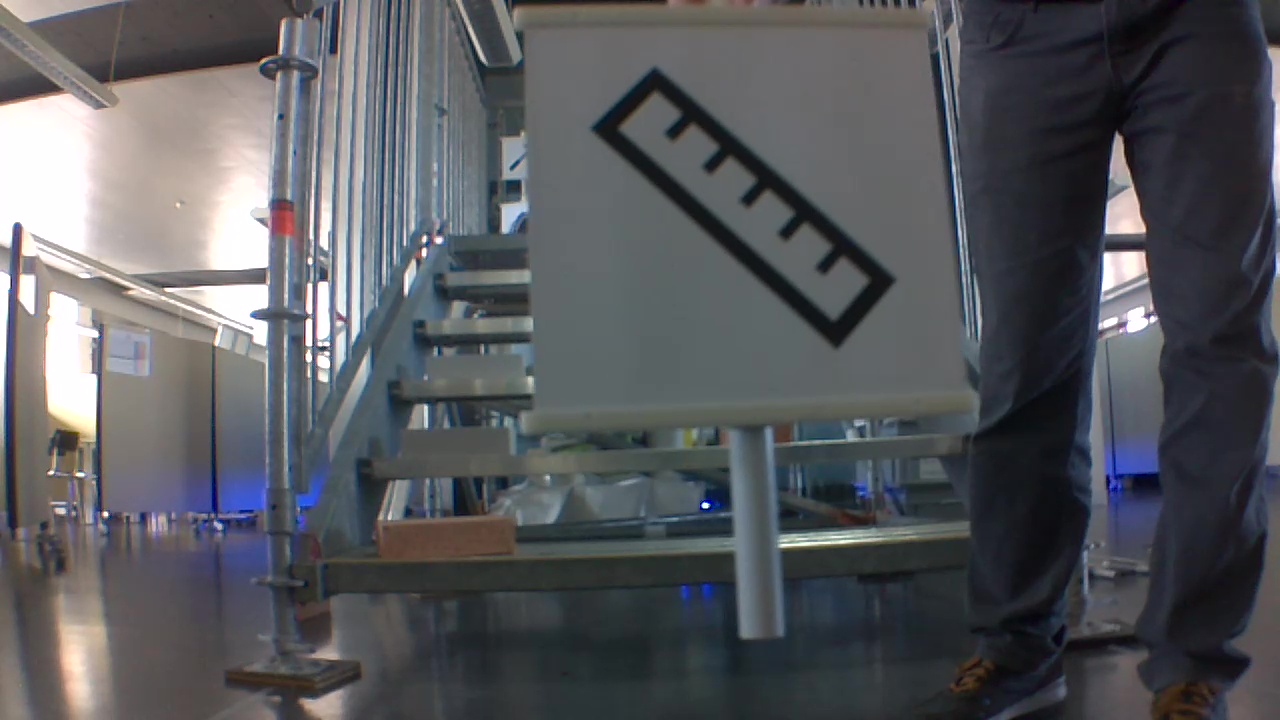brick: (379, 518, 519, 561), (400, 427, 510, 453), (427, 354, 526, 377)
edge: (318, 531, 993, 603), (355, 428, 976, 480)
ruler: (577, 69, 901, 354)
